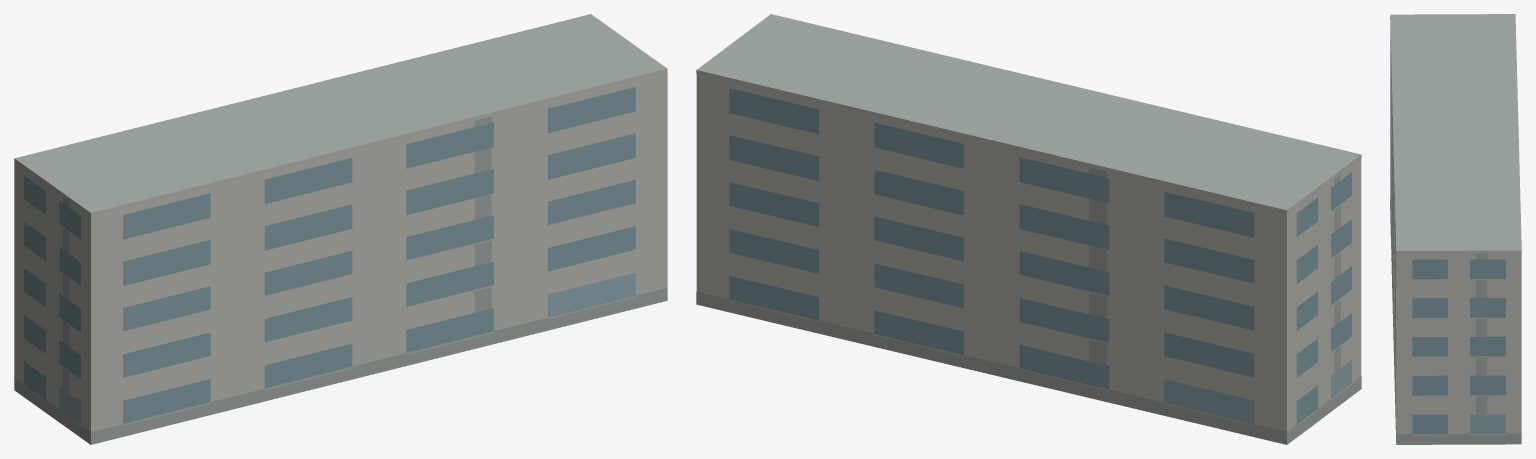
Rendered from residential-f6e765cf-4e8d-43cd-8b04-d643d245772e.glb.
3 views of the same model, side by side, from view 1: azimuth 30°, elevation 25°; view 2: azimuth 150°, elevation 25°; view 3: azimuth 270°, elevation 25° (orthographic). The views are drawn at different scales.
Parts seen in each view (by area): view 1: residential-f6e765cf-4e8d-43cd-8b04-d643d245772e.tmp; view 2: residential-f6e765cf-4e8d-43cd-8b04-d643d245772e.tmp; view 3: residential-f6e765cf-4e8d-43cd-8b04-d643d245772e.tmp.
Boxes of the visible parts, <box> form: residential-f6e765cf-4e8d-43cd-8b04-d643d245772e.tmp: <box>14,14,667,444</box>; residential-f6e765cf-4e8d-43cd-8b04-d643d245772e.tmp: <box>696,14,1361,444</box>; residential-f6e765cf-4e8d-43cd-8b04-d643d245772e.tmp: <box>1390,14,1521,444</box>.
Bounding box in the file's own units: 40.02 × 15.25 × 9.4.
